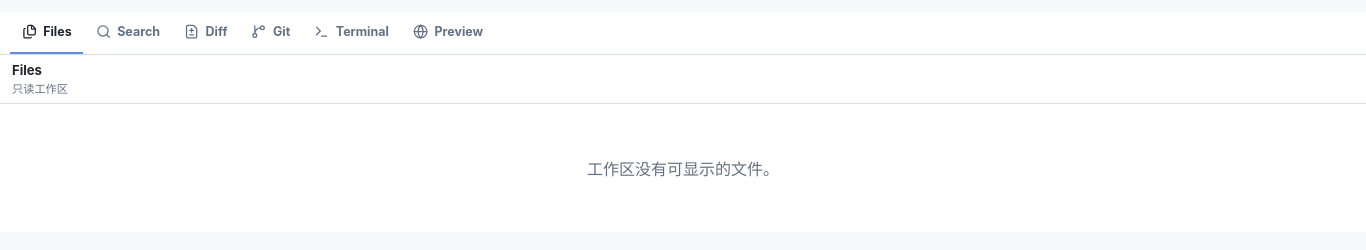
Test: Workbench shell › exposes the six keyboard-accessible read-only tabs
Click the tab "Search" at (128, 33), box [84,12,171,54]
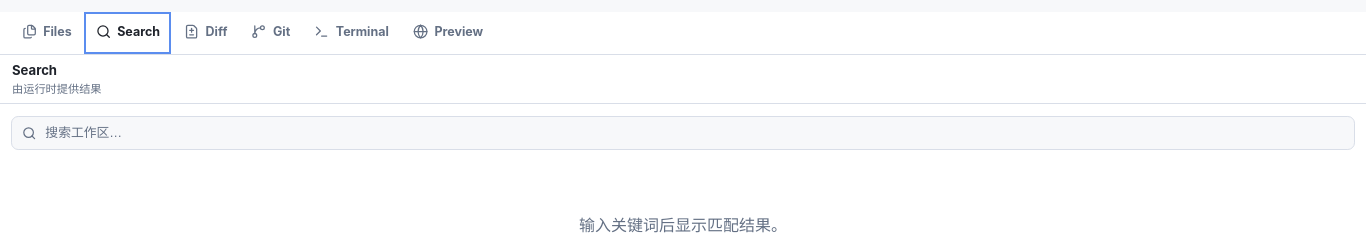
Expected: the search field labelled "搜索工作区" is shown, [43,124,1344,141]
